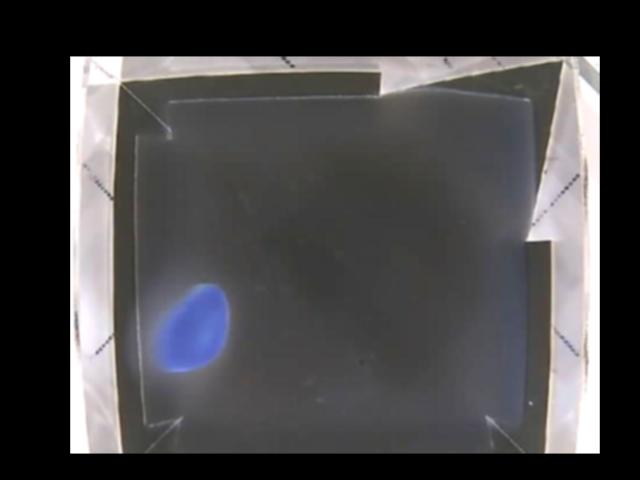Potato: (152, 283, 229, 373)
